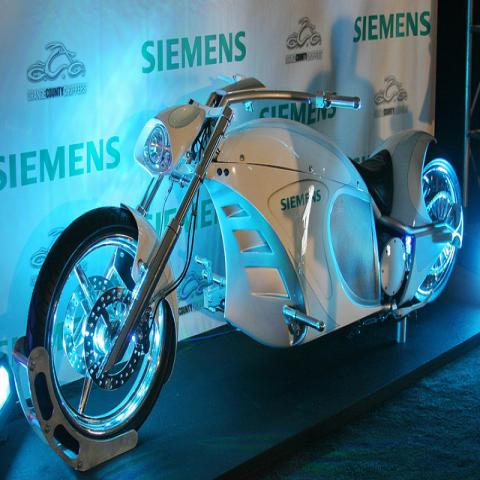motorcycle: (10, 74, 464, 470)
